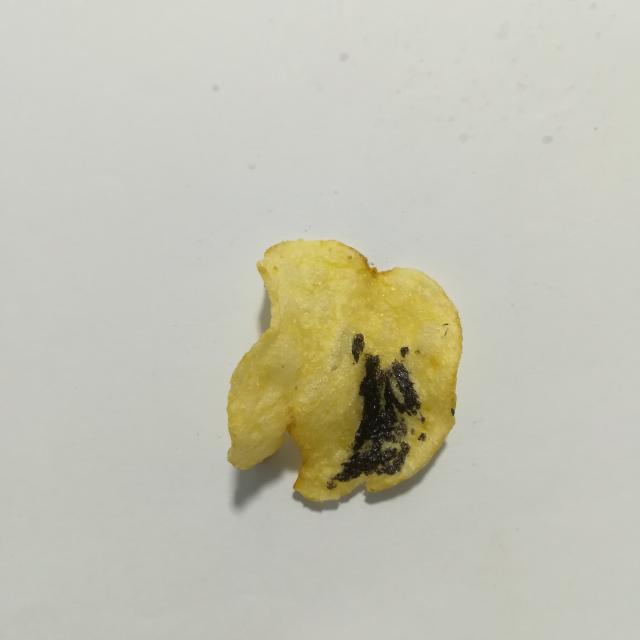chip: (227, 240, 462, 502)
damaged: (327, 355, 420, 489), (351, 333, 364, 363), (400, 346, 409, 357), (418, 432, 426, 441), (451, 409, 455, 416)
semi-damaged: (421, 415, 426, 423), (411, 428, 414, 434)
